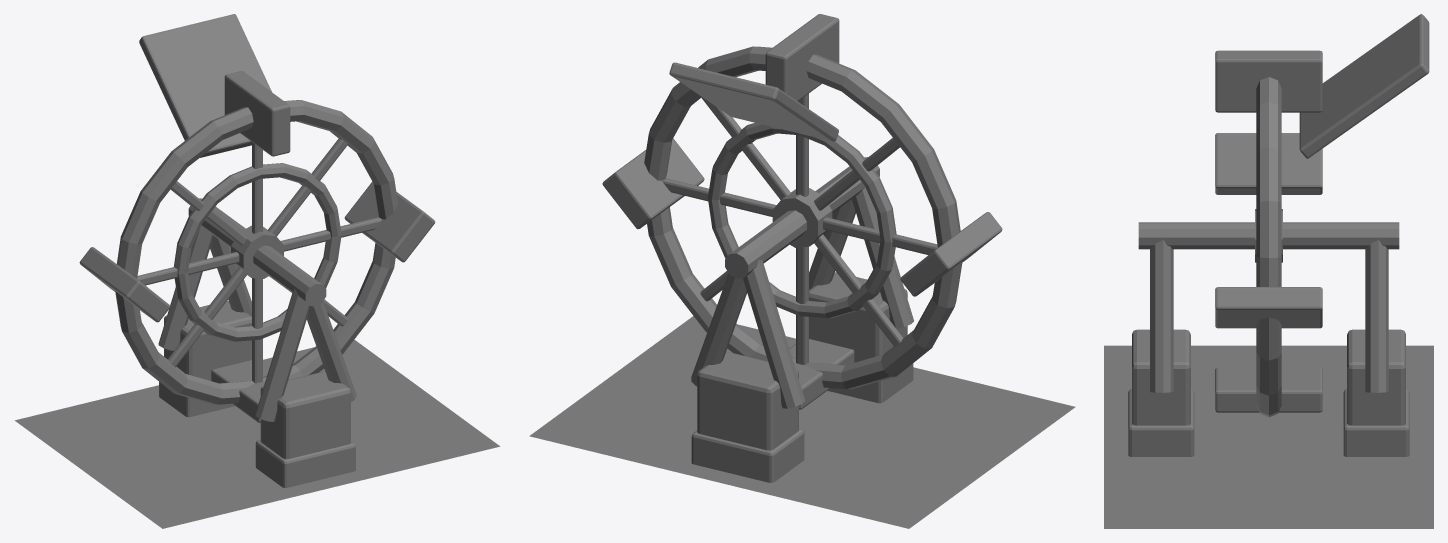
Rendered from waterwheel.glb.
The picture shows the model from 3 angles, left to right: view 1: azimuth 30°, elevation 25°; view 2: azimuth 150°, elevation 25°; view 3: azimuth 270°, elevation 25°; orthographic projection. The views are drawn at different scales.
Parts seen in each view (by area): view 1: ContactShadow, rim, sluice, rimIn, pier, paddle, pier.001, pierWet, framePost, axle, paddle.005, spoke.001 (+11 smaller); view 2: ContactShadow, rim, rimIn, pier.001, sluice, pier, paddle, pierWet.001, paddle.005, framePost.001, axle, spoke.001 (+13 smaller); view 3: ContactShadow, sluice, rim, axle, paddle.004, pier.001, pier, paddle.003, paddle.002, framePostB, framePostB.001, paddle.005 (+6 smaller).
Part boxes in pixels (x1,y1,x2,y2): ContactShadow: (14, 339, 500, 528); rim: (115, 100, 398, 404); sluice: (139, 14, 271, 157); rimIn: (174, 163, 341, 341); pier: (260, 371, 350, 459); paddle: (224, 72, 290, 156); pier.001: (164, 300, 251, 380); pierWet: (255, 440, 355, 487); framePost: (255, 283, 309, 421); axle: (188, 198, 326, 306); paddle.005: (344, 181, 434, 262); spoke.001: (167, 138, 348, 367); ContactShadow: (529, 316, 1075, 528); rim: (644, 46, 962, 389); rimIn: (707, 122, 896, 318); pier.001: (697, 352, 798, 450); sluice: (669, 62, 838, 141); pier: (809, 272, 907, 362); paddle: (766, 14, 839, 101); pierWet.001: (691, 429, 804, 482); paddle.005: (602, 138, 704, 226); framePost.001: (743, 254, 805, 408); axle: (725, 157, 879, 278); spoke.001: (700, 96, 903, 346); ContactShadow: (1104, 345, 1433, 528); sluice: (1299, 14, 1429, 158); rim: (1256, 77, 1281, 417); axle: (1138, 222, 1399, 249); paddle.004: (1215, 51, 1322, 112); pier.001: (1347, 329, 1405, 425); pier: (1132, 329, 1190, 425); paddle.003: (1215, 133, 1322, 191); paddle.002: (1215, 367, 1322, 412); framePostB: (1150, 234, 1173, 392); framePostB.001: (1365, 234, 1388, 392); paddle.005: (1215, 287, 1322, 328).
Bounding box in the file's own units: 2.5 × 2.56 × 1.9.
9 materials, 9 textured.
